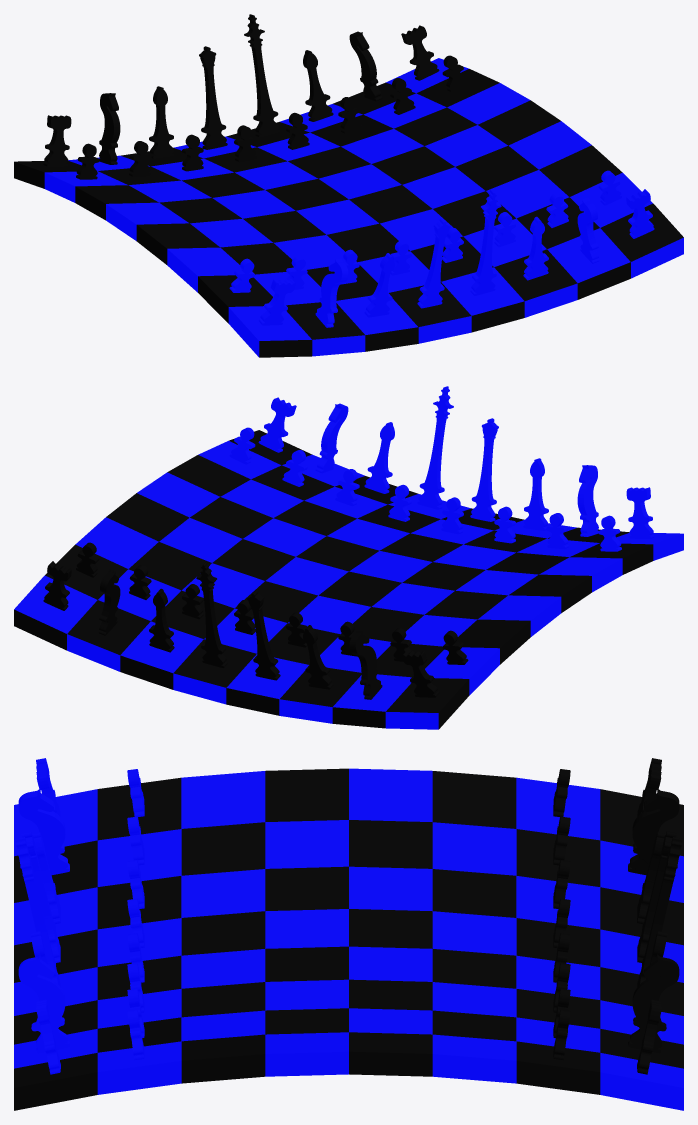
File: Chess.glb
3 renders of one model, top to bottom at view 1: azimuth 30°, elevation 25°; view 2: azimuth 150°, elevation 25°; view 3: azimuth 270°, elevation 25°, orthographic. The views are drawn at different scales.
Bounding box in the file's own units: 8 × 2.43 × 8.
